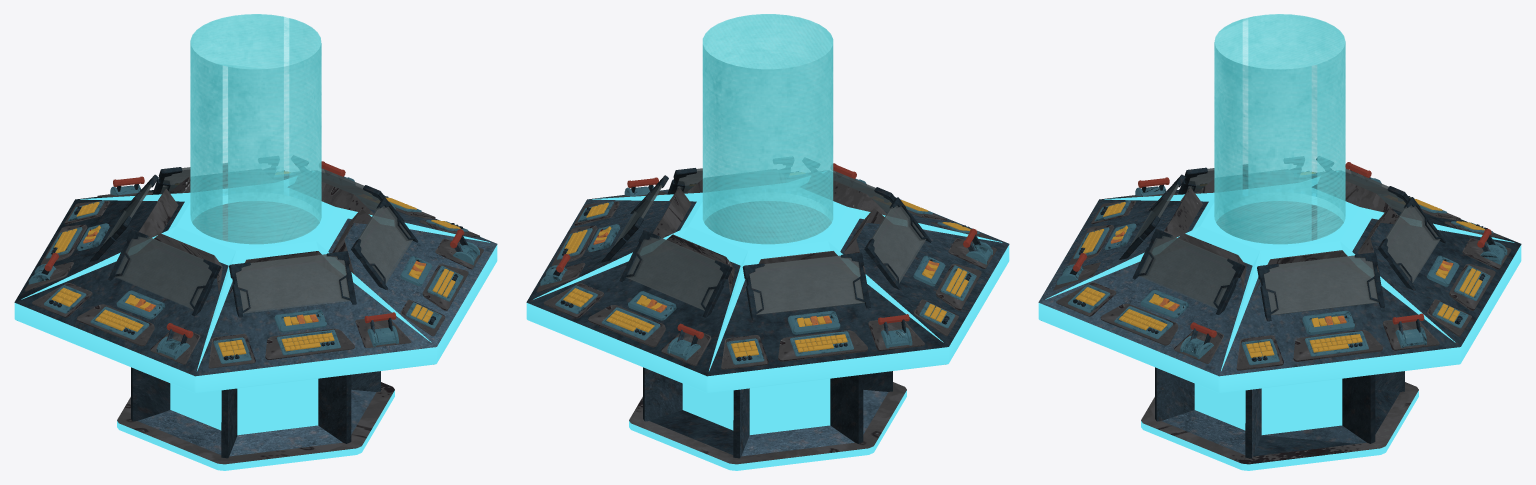
Rendered from console02.glb.
3 views of the same model, side by side, from view 1: azimuth 30°, elevation 25°; view 2: azimuth 150°, elevation 25°; view 3: azimuth 270°, elevation 25° (orthographic).
Visible parts, largest first — view 1: Object_359.001, Object_26.001, Object_23.001, defaultMaterial.014, Object_6.001, defaultMaterial.010, Object_171.001, Object_28.001, Object_7.001, defaultMaterial.006, Object_203.001, defaultMaterial.004 (+2 smaller); view 2: Object_359.001, Object_26.001, Object_23.001, defaultMaterial.014, Object_6.001, defaultMaterial.010, Object_171.001, Object_28.001, Object_7.001, defaultMaterial.006, Object_203.001, defaultMaterial.004 (+2 smaller); view 3: Object_359.001, Object_26.001, Object_23.001, defaultMaterial.014, Object_6.001, defaultMaterial.010, Object_28.001, Object_171.001, Object_7.001, defaultMaterial.006, Object_203.001, defaultMaterial.004 (+2 smaller).
Boxes of the visible parts, x1,y1,x2,y2 form: Object_359.001: [190, 14, 321, 244]; Object_26.001: [14, 178, 497, 376]; Object_23.001: [14, 202, 497, 470]; defaultMaterial.014: [102, 163, 412, 313]; Object_6.001: [131, 367, 380, 458]; defaultMaterial.010: [28, 173, 479, 363]; Object_171.001: [25, 173, 483, 368]; Object_28.001: [21, 178, 490, 370]; Object_7.001: [170, 378, 318, 435]; defaultMaterial.006: [90, 159, 418, 317]; Object_203.001: [138, 172, 373, 294]; defaultMaterial.004: [51, 171, 460, 356]; Object_359.001: [702, 14, 833, 244]; Object_26.001: [526, 171, 1009, 376]; Object_23.001: [526, 202, 1009, 470]; defaultMaterial.014: [613, 168, 926, 314]; Object_6.001: [643, 239, 892, 458]; defaultMaterial.010: [540, 174, 992, 364]; Object_171.001: [536, 173, 996, 369]; Object_28.001: [533, 180, 1002, 370]; Object_7.001: [682, 378, 830, 434]; defaultMaterial.006: [601, 159, 931, 320]; Object_203.001: [653, 175, 886, 294]; defaultMaterial.004: [563, 200, 970, 357]; Object_359.001: [1214, 14, 1345, 244]; Object_26.001: [1038, 171, 1521, 376]; Object_23.001: [1038, 202, 1521, 470]; defaultMaterial.014: [1130, 164, 1440, 315]; Object_6.001: [1155, 213, 1404, 458]; defaultMaterial.010: [1057, 172, 1507, 365]; Object_28.001: [1045, 177, 1514, 370]; Object_171.001: [1053, 172, 1511, 370]; Object_7.001: [1194, 378, 1342, 435]; defaultMaterial.006: [1119, 158, 1446, 321]; Object_203.001: [1164, 170, 1399, 293]; defaultMaterial.004: [1075, 172, 1484, 357].
Size of the model in its own units: 4.08 by 3.41 by 4.04.
6 materials, 5 textured.
